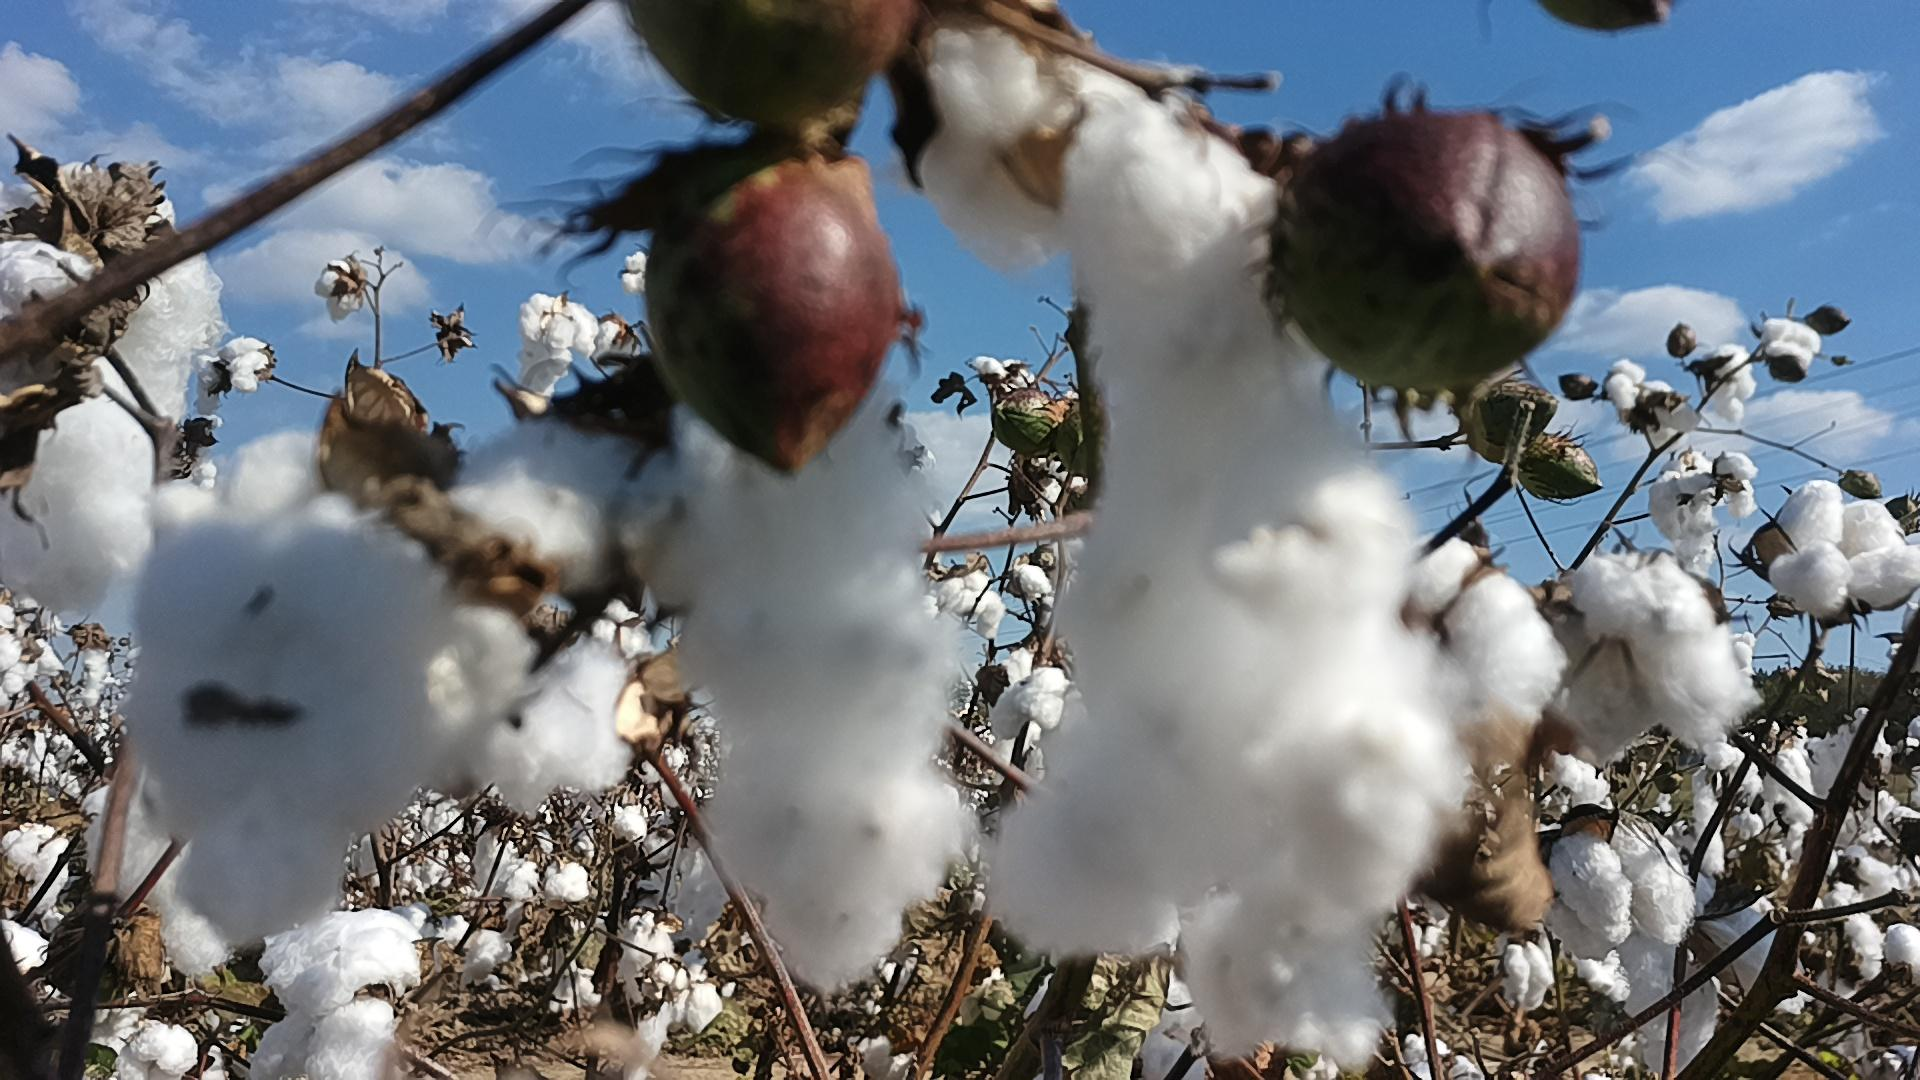cotton_ready: (913, 0, 1464, 1067), (120, 392, 638, 945), (650, 171, 982, 1006), (0, 153, 220, 617), (1540, 814, 1718, 1080), (1549, 549, 1760, 764), (1411, 533, 1572, 754), (245, 909, 429, 1080), (1763, 476, 1920, 615), (517, 291, 593, 401), (186, 336, 273, 409)
